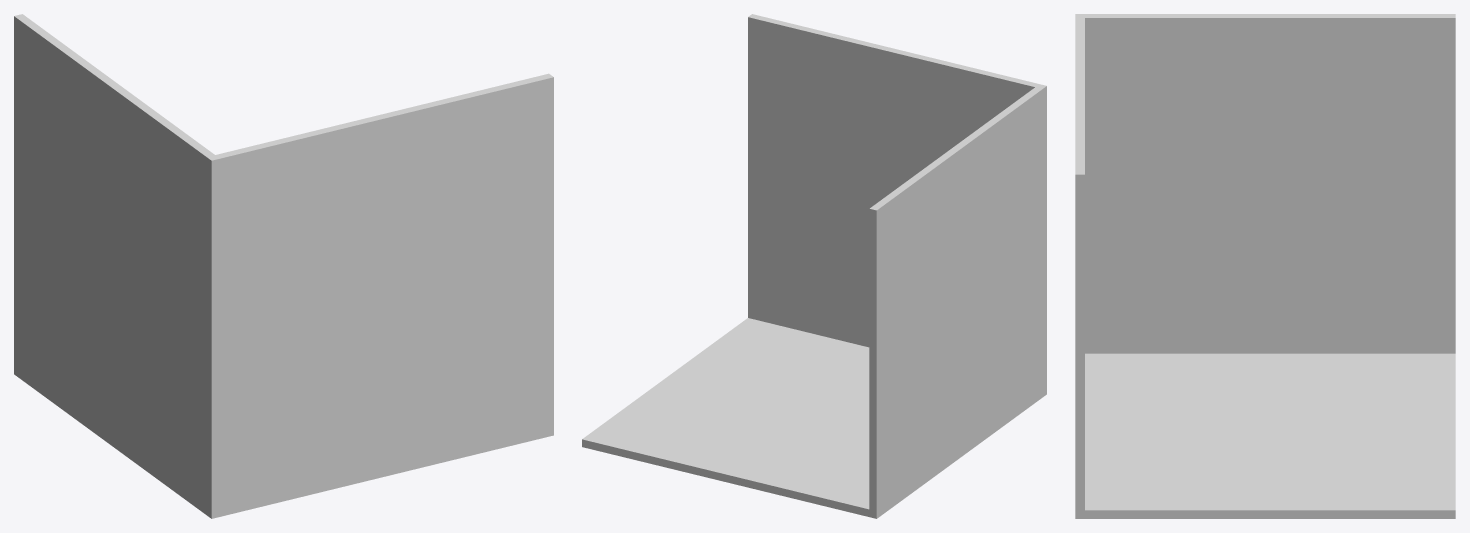
Rendered from corner.obj.
3 renders of one model, left to right at view 1: azimuth 30°, elevation 25°; view 2: azimuth 150°, elevation 25°; view 3: azimuth 270°, elevation 25°, orthographic. The views are drawn at different scales.
Bounding box in the file's own units: 4 × 4 × 4.
1 material, 1 textured.
